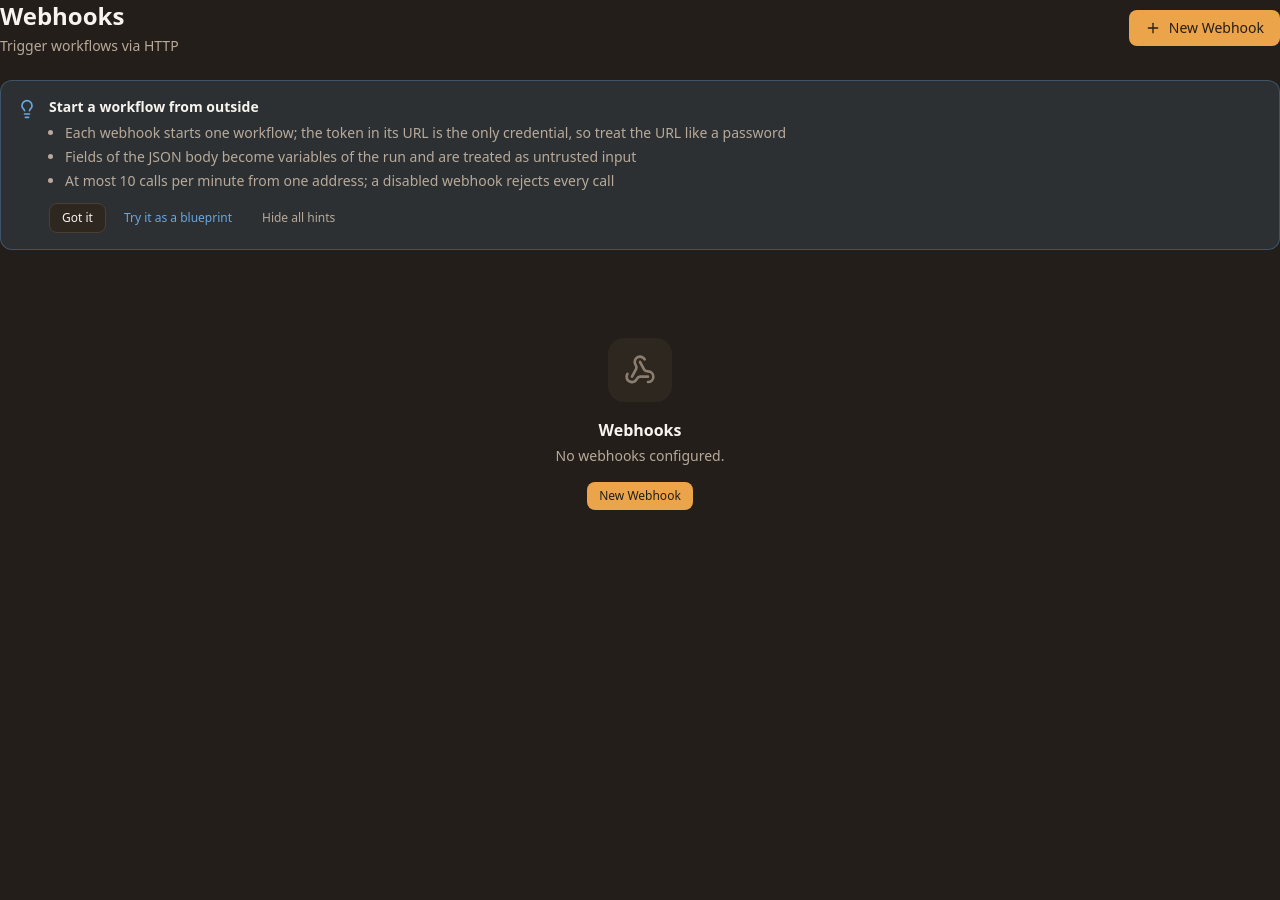
Test: Webhooks — creating and one-time token reveal › creates a webhook and shows its URL and token exactly once
Click the button "New Webhook" in the row of "Trigger workflows via HTTP": x=1204, y=28 x1=1129 y1=10 x2=1279 y2=46
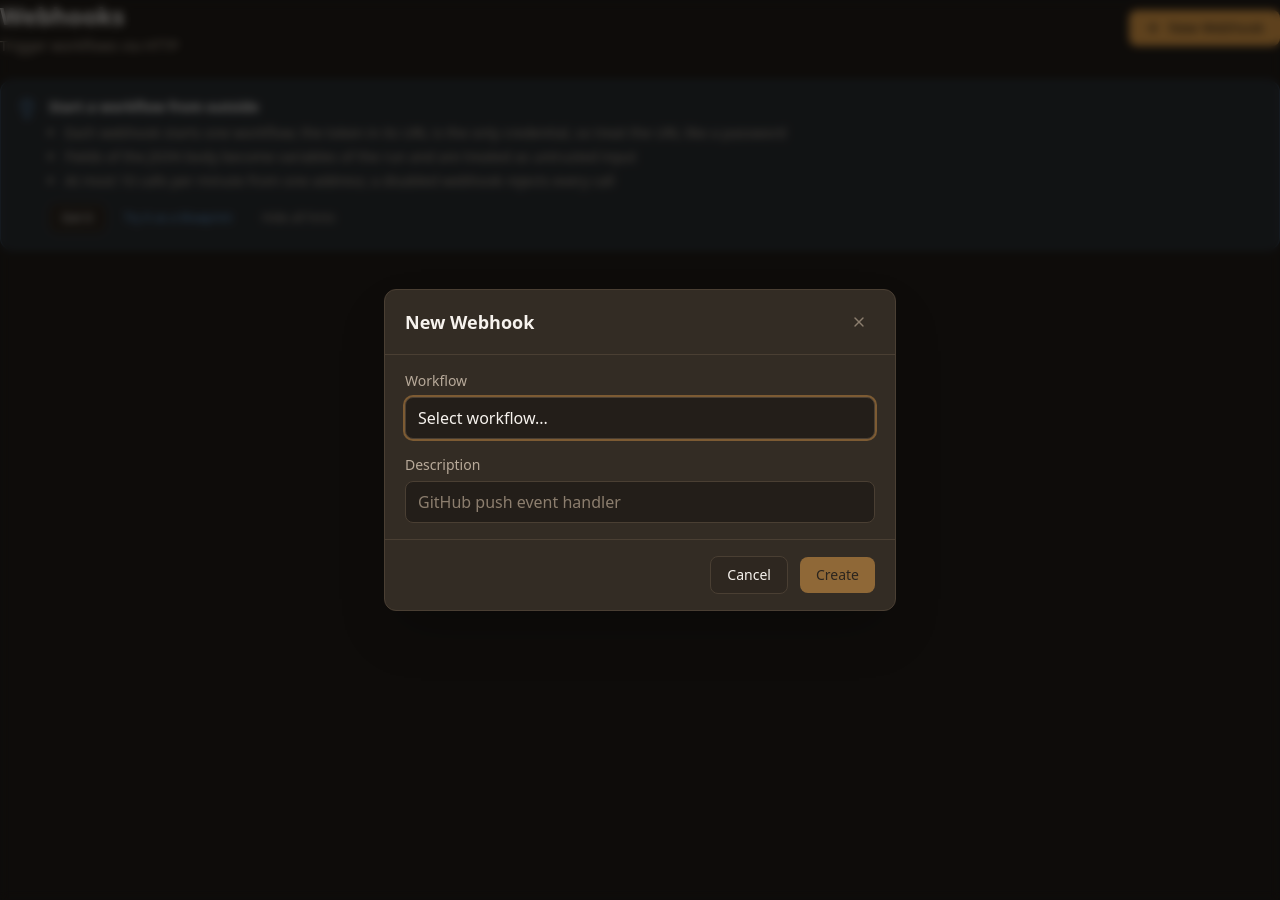
Check: the button "Create" is disabled, box x1=800 y1=557 x2=875 y2=593
Select "Test Workflow" in the dropdown: x=640, y=418 x1=405 y1=397 x2=875 y2=439
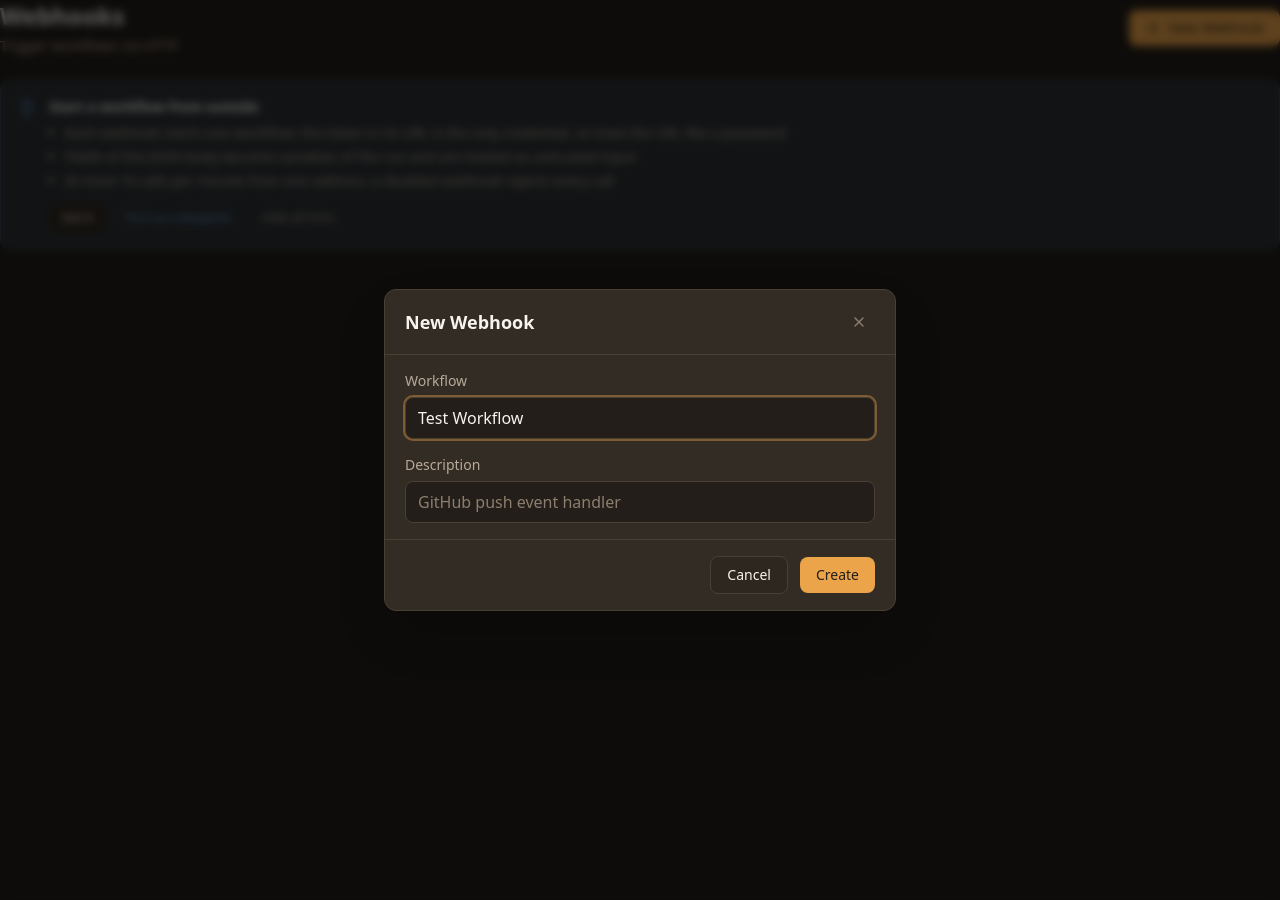
In the field labelled "Description": x=640, y=502 x1=405 y1=481 x2=875 y2=523, type "CI hook"
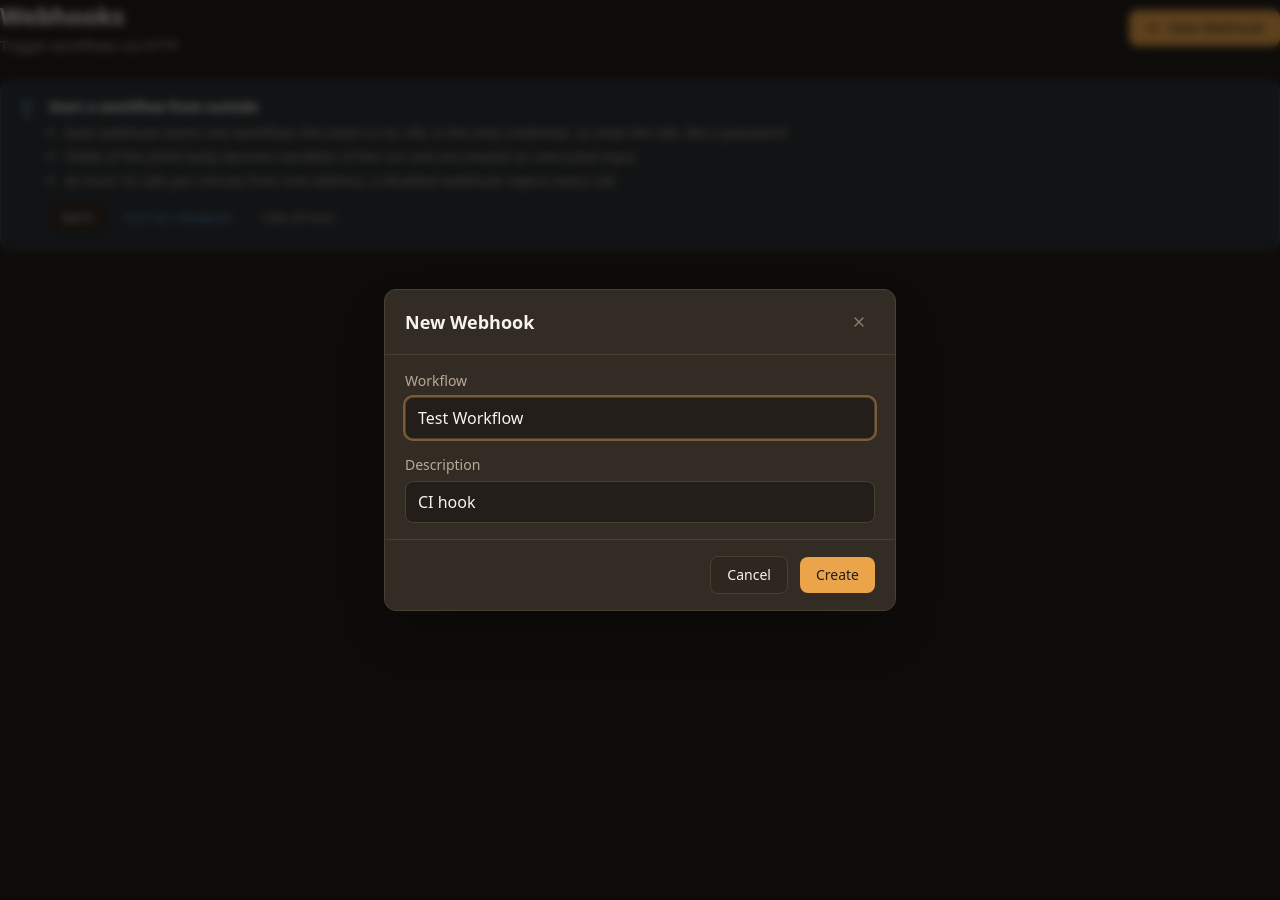
Click the button "Create": x=837, y=575 x1=800 y1=557 x2=875 y2=593
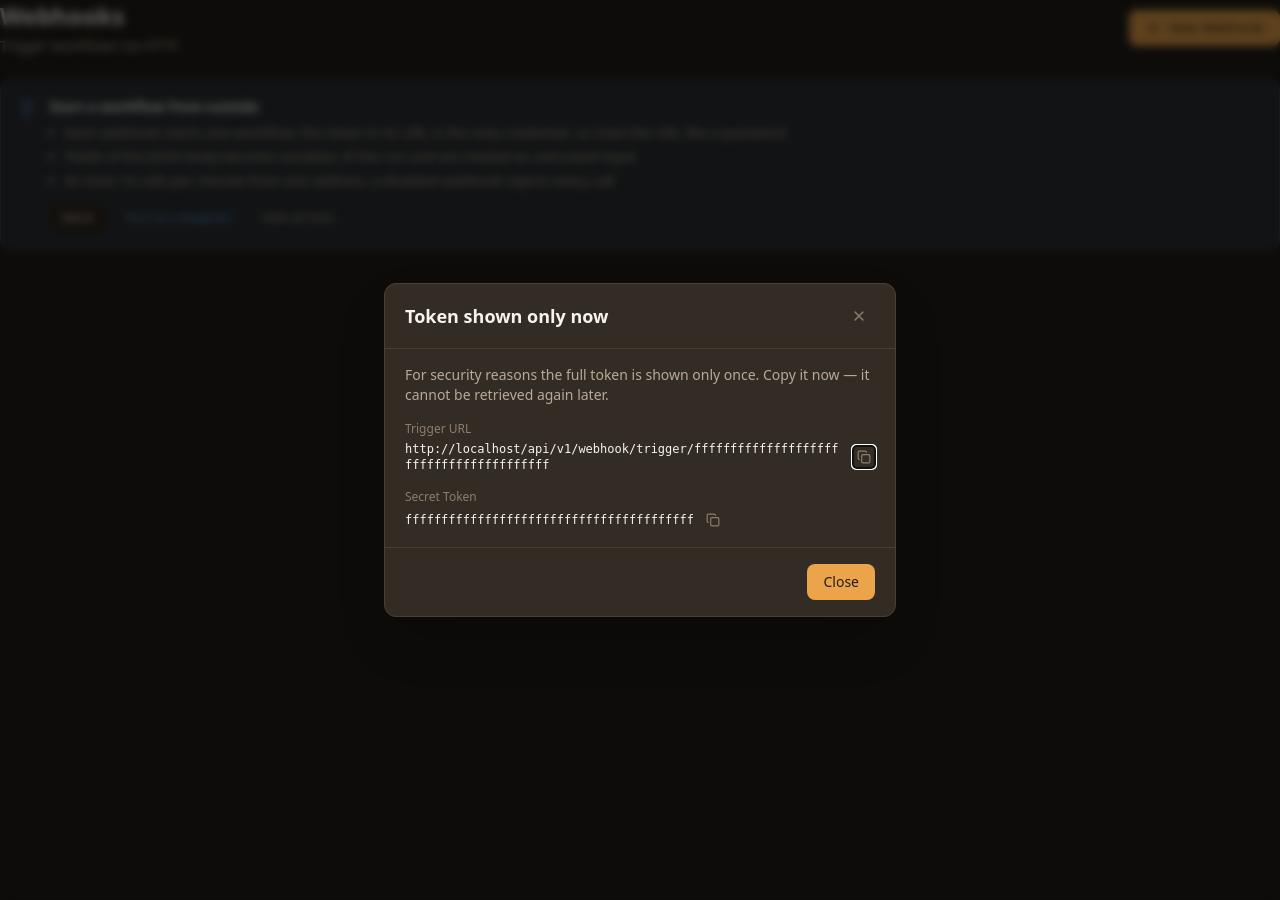
Check: the heading "Token shown only now" is shown, box x1=405 y1=302 x2=608 y2=330
Check: the text "For security reasons the full token is shown only once. Copy it now — it cannot be retrieved again later." is shown, box x1=405 y1=365 x2=870 y2=404
Check: the number of buttons named "copy" is 2, box x1=853 y1=446 x2=875 y2=468; x1=702 y1=509 x2=724 y2=531
Click the button "Close": x=841, y=582 x1=808 y1=564 x2=875 y2=600
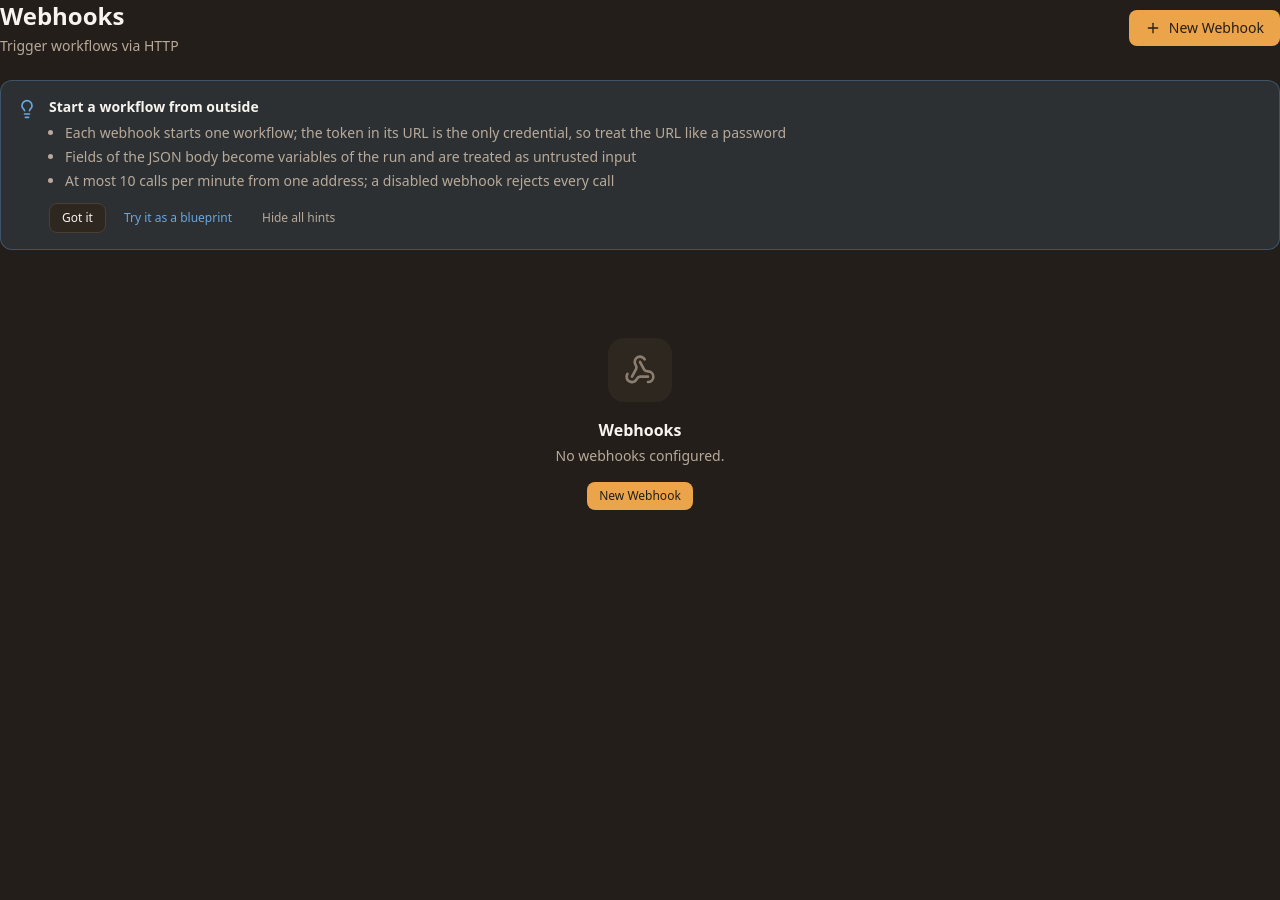
Check: the dialog is gone
Note: Created: the form starts over
Click the button "New Webhook" in the row of "Trigger workflows via HTTP": x=1204, y=28 x1=1129 y1=10 x2=1279 y2=46
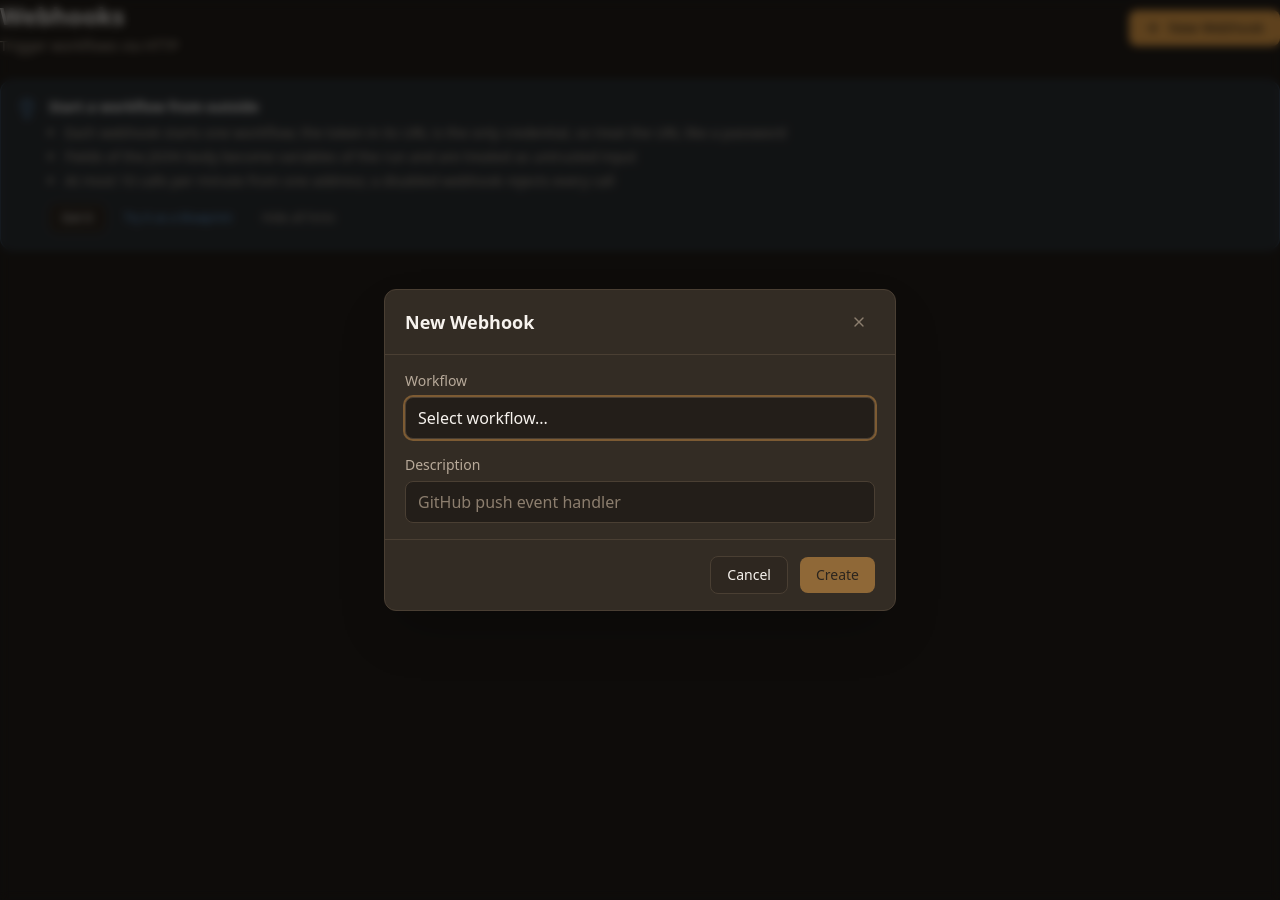
Check: the dropdown shows "Select workflow...", box x1=405 y1=397 x2=875 y2=439
